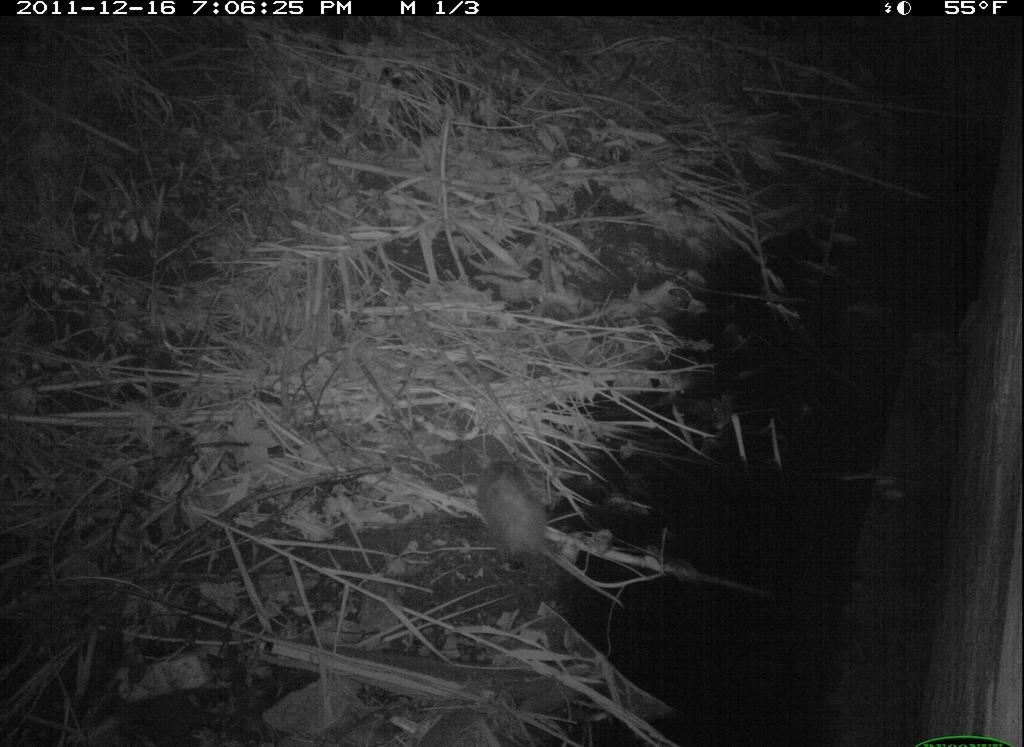opossum: (451, 411, 596, 612)
